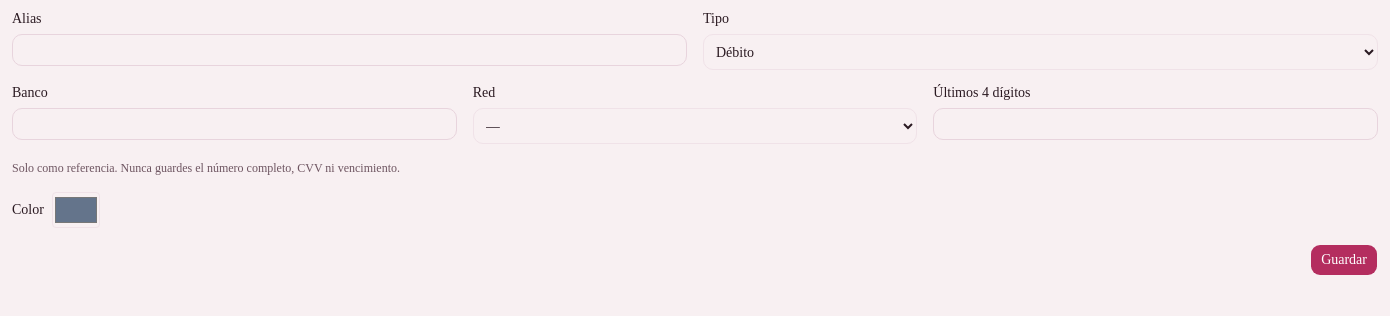
PaymentMethodForm › rejects anything but exactly 4 digits for last4
The image size is (1390, 316).
In the field labelled "Alias": (350,50) left=12, top=34, right=687, bottom=66, type "Nómina"
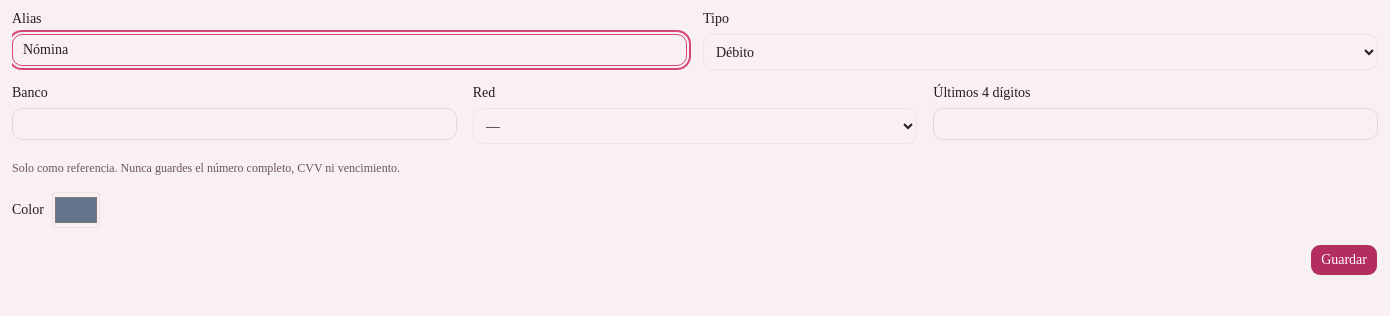
In the field labelled "Últimos 4 dígitos": (1156,124) left=933, top=108, right=1378, bottom=140, type "12a4"
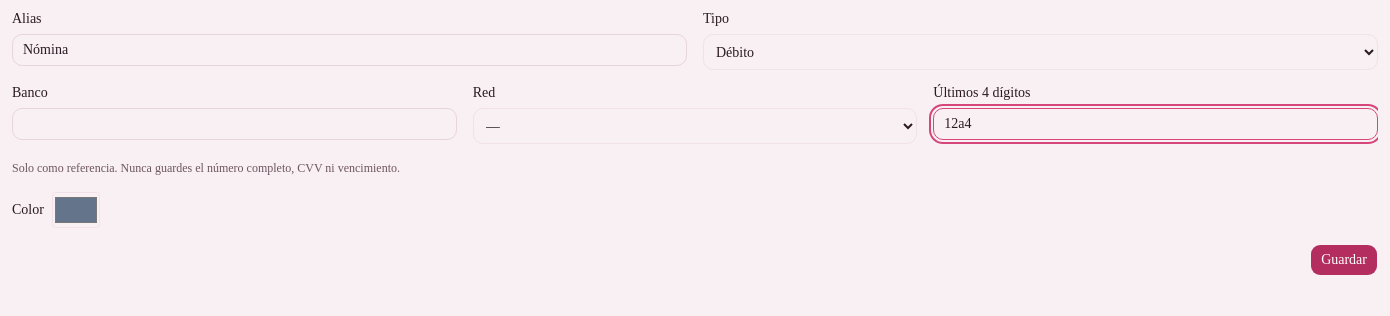
Click the button "Guardar": (1344,260) left=1310, top=244, right=1378, bottom=276
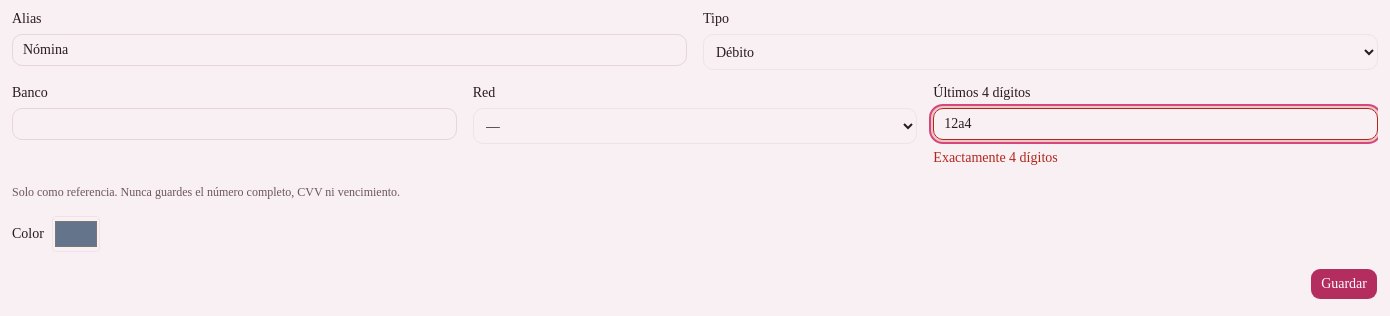
Check: the text "Exactamente 4 dígitos" is shown, box left=933, top=150, right=1058, bottom=165
